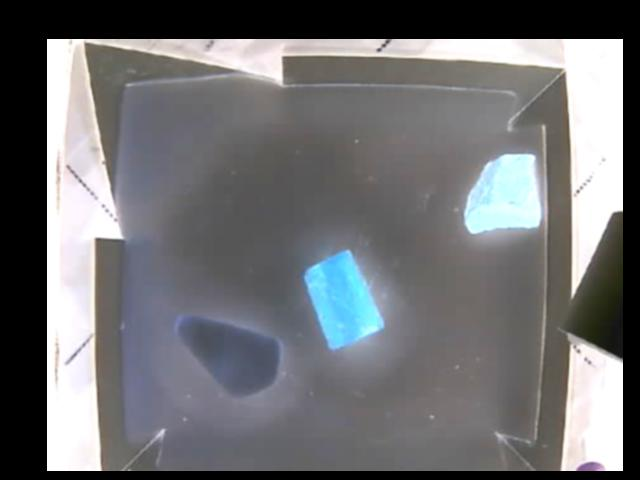Brisk: (461, 154, 538, 233)
Carrot: (305, 248, 380, 352)
Mooli: (172, 315, 284, 401)
